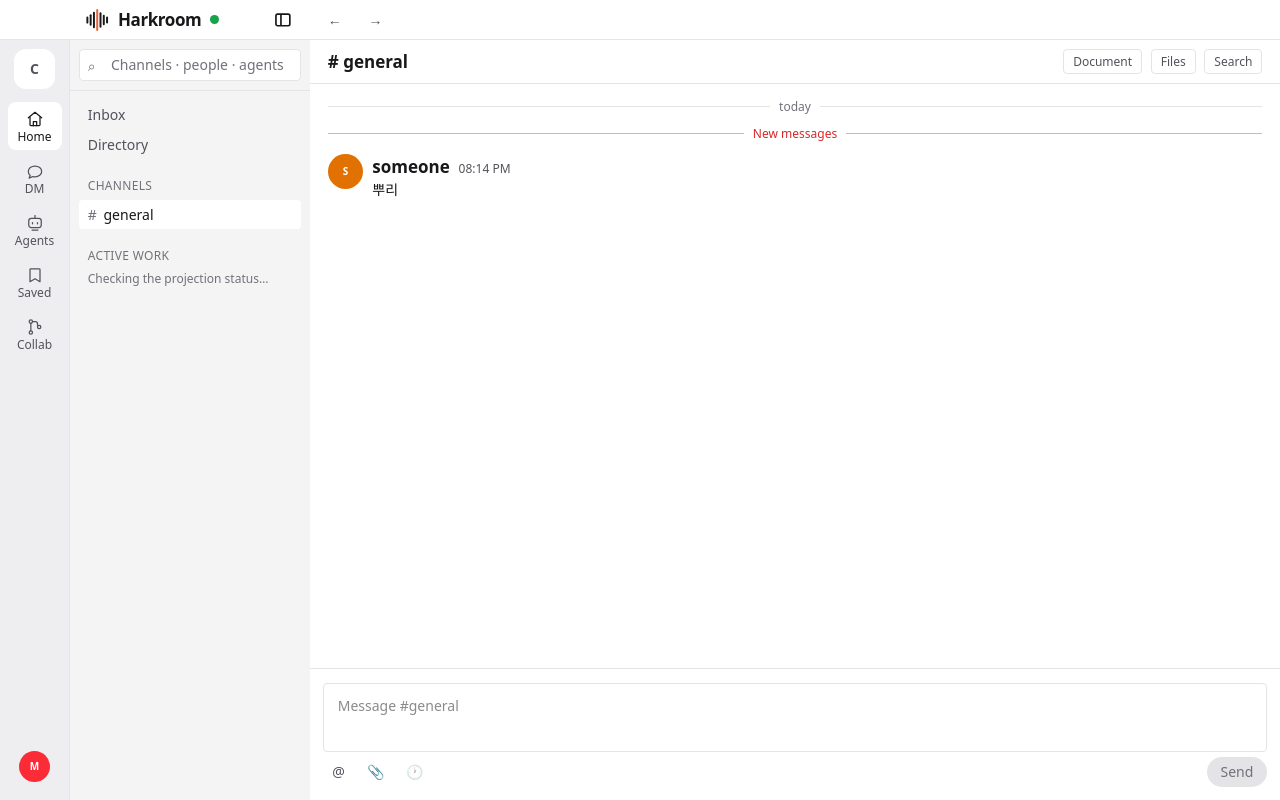
Test case: sr-only 는 자기 상자를 벗어나지 않는다 › 인박스 줄의 모든 sr-only 가 positioned 부모를 갖는다
Click the button "Inbox" at [190, 115], box x1=79 y1=100 x2=301 y2=130
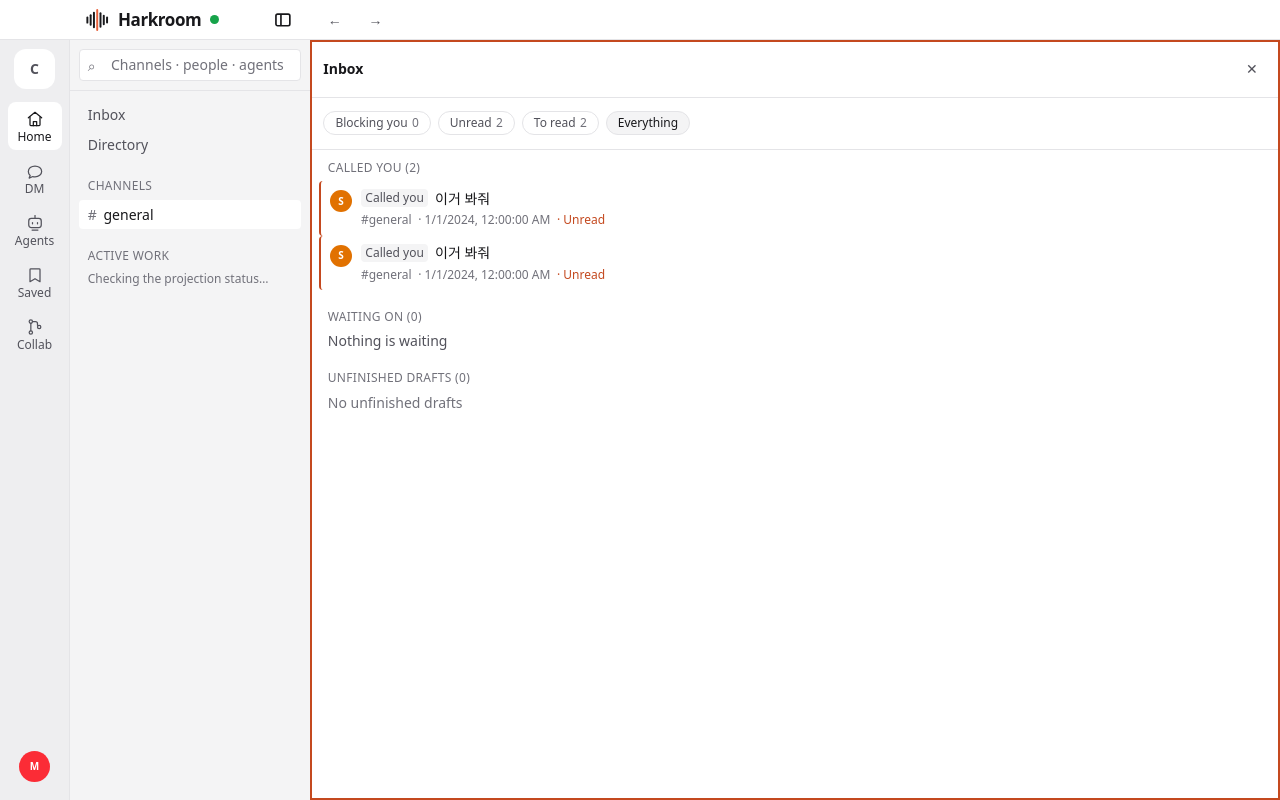
Expected: the button with test id "inbox-entry-1" is shown, x1=319 y1=181 x2=1271 y2=236
